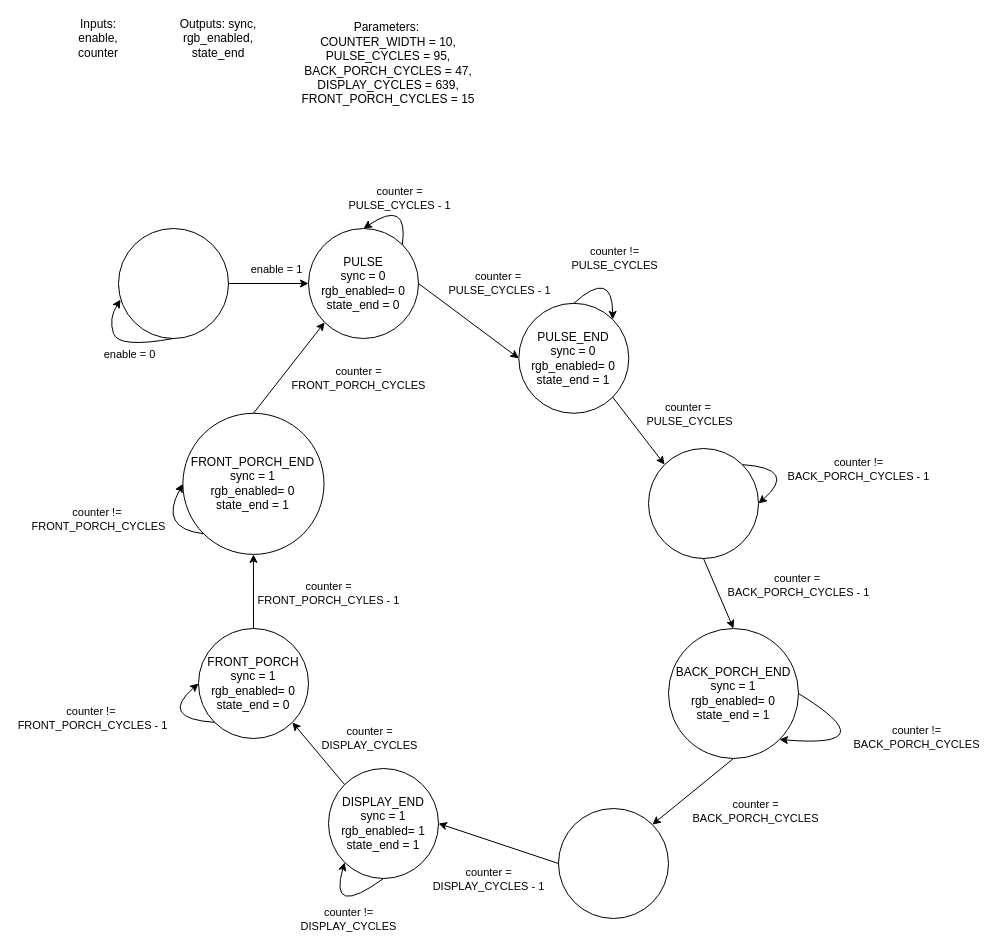
The diagram is 996 pixels wide and 950 high, and some of its shapes have lost their labels. Each missing label, with the centre of its shape:
"BACK_PORCH sync = 1 rgb_enabled= 0 state_end = 0" belongs at (x=703, y=503).
"DISPLAY sync = 1 rgb_enabled= 1 state_end = 0" belongs at (x=613, y=863).
"IDLE sync = 1 rgb_enabled= 0 state_end = 0" belongs at (x=173, y=283).
